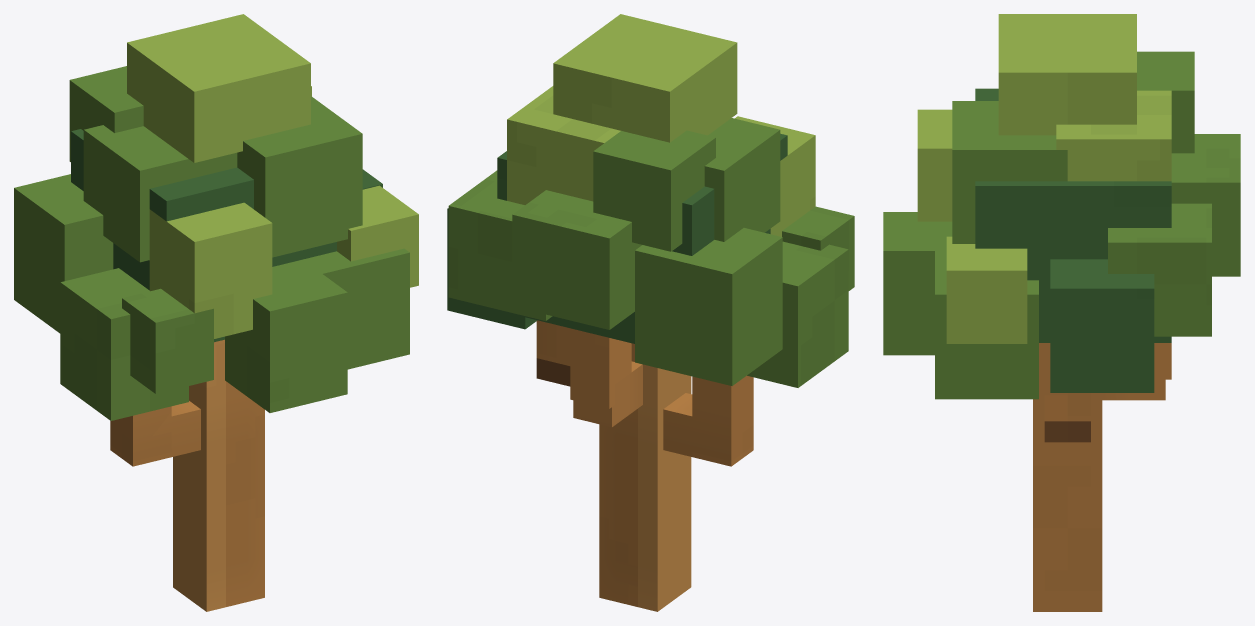
File: SM_VMF_Nature_Tree.fbx
3 renders of one model, left to right at view 1: azimuth 30°, elevation 25°; view 2: azimuth 150°, elevation 25°; view 3: azimuth 270°, elevation 25°, orthographic. The views are drawn at different scales.
Visible parts, largest first — view 1: SM_VMF_Nature_Tree_Geo; view 2: SM_VMF_Nature_Tree_Geo; view 3: SM_VMF_Nature_Tree_Geo.
Boxes of the visible parts, box(x1,y1,x2,y2) form: SM_VMF_Nature_Tree_Geo: box(14, 14, 418, 611); SM_VMF_Nature_Tree_Geo: box(447, 14, 854, 611); SM_VMF_Nature_Tree_Geo: box(883, 14, 1240, 611).
Size of the model in its own units: 128 by 212 by 124.
Materials: 1 (1 with a texture image).
